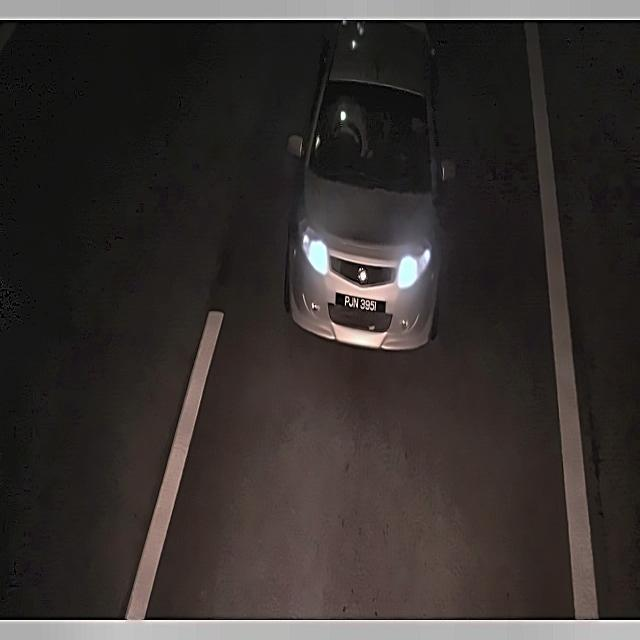car: (332, 288, 390, 321)
